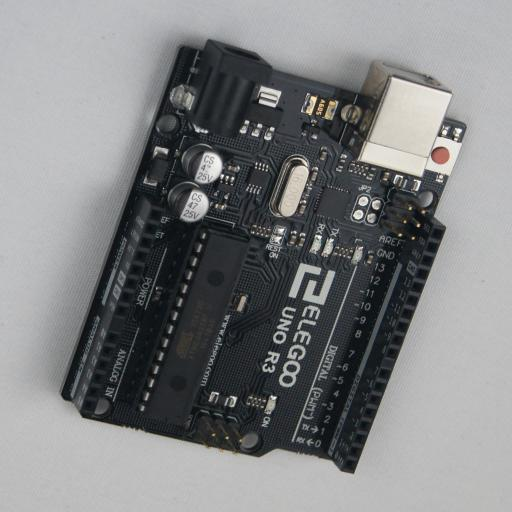Arduino Uno -Black-: (59, 39, 467, 474)
